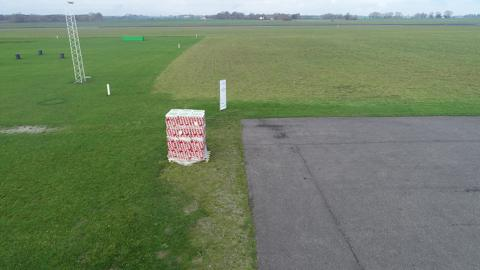RockwoolPallet: (165, 108, 208, 164)
